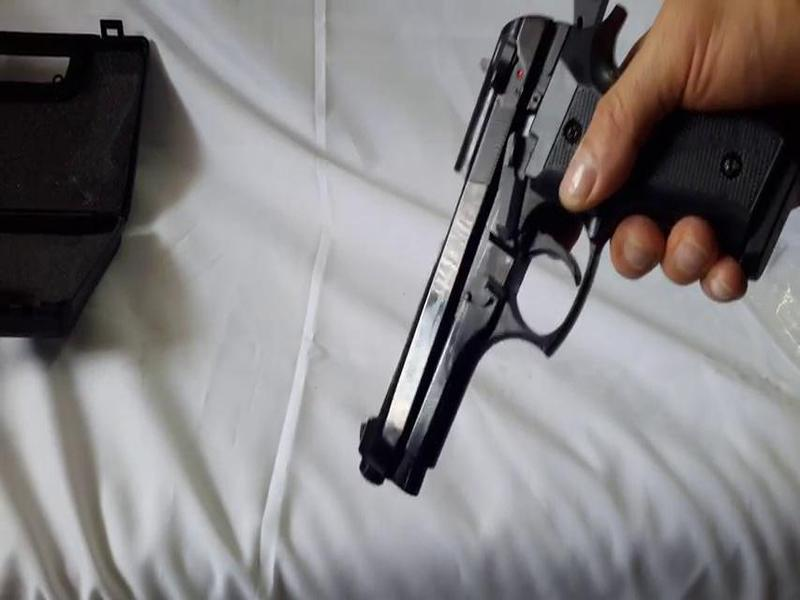Pistola: (309, 5, 775, 510)
